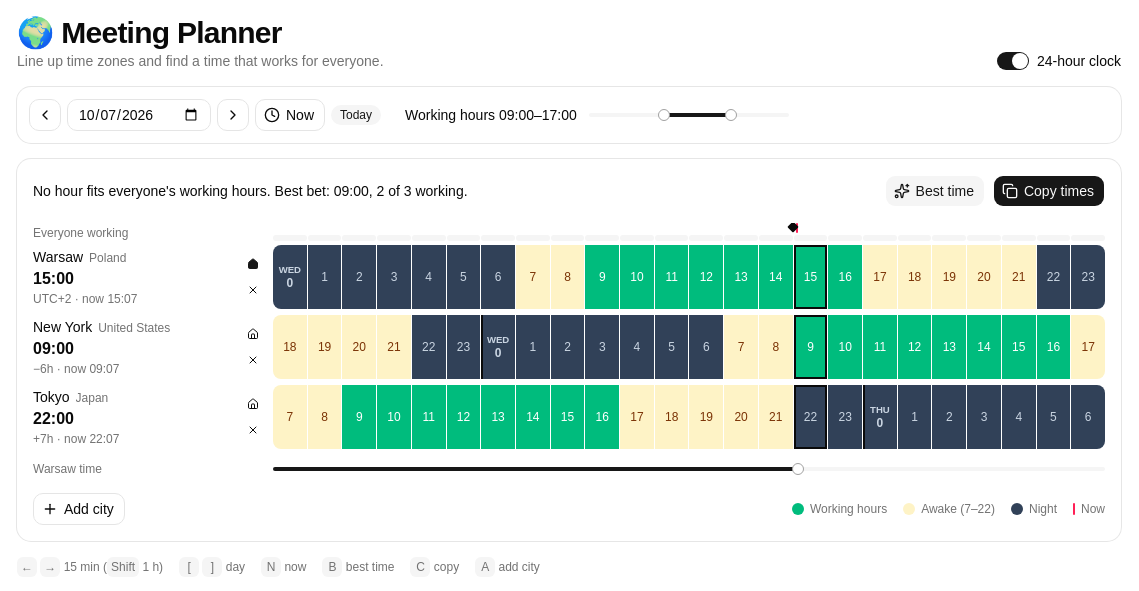
Scenario: dates › moves between days with the buttons and the date field
The width and height of the screenshot is (1139, 591).
Click the button named "Previous day". click: (45, 115)
box: left=29, top=99, right=61, bottom=131
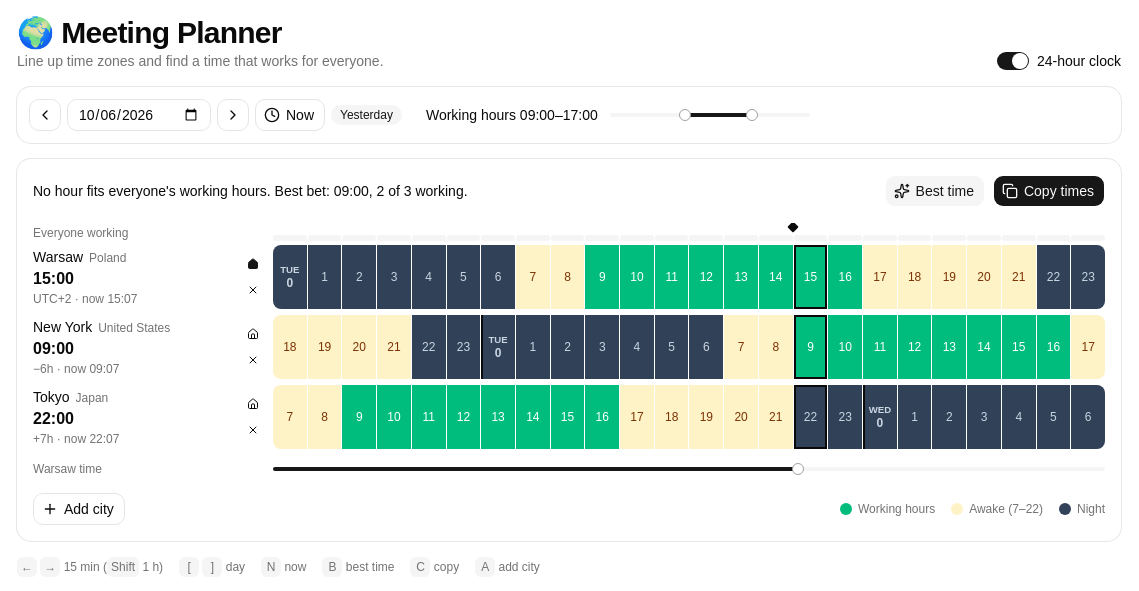
Result: the date field named "Date" holds "2026-10-06" at left=67, top=99, right=211, bottom=131
Result: the text "Yesterday" is shown at left=331, top=105, right=402, bottom=125
Click the button named "Next day". click: (233, 115)
box: left=217, top=99, right=249, bottom=131
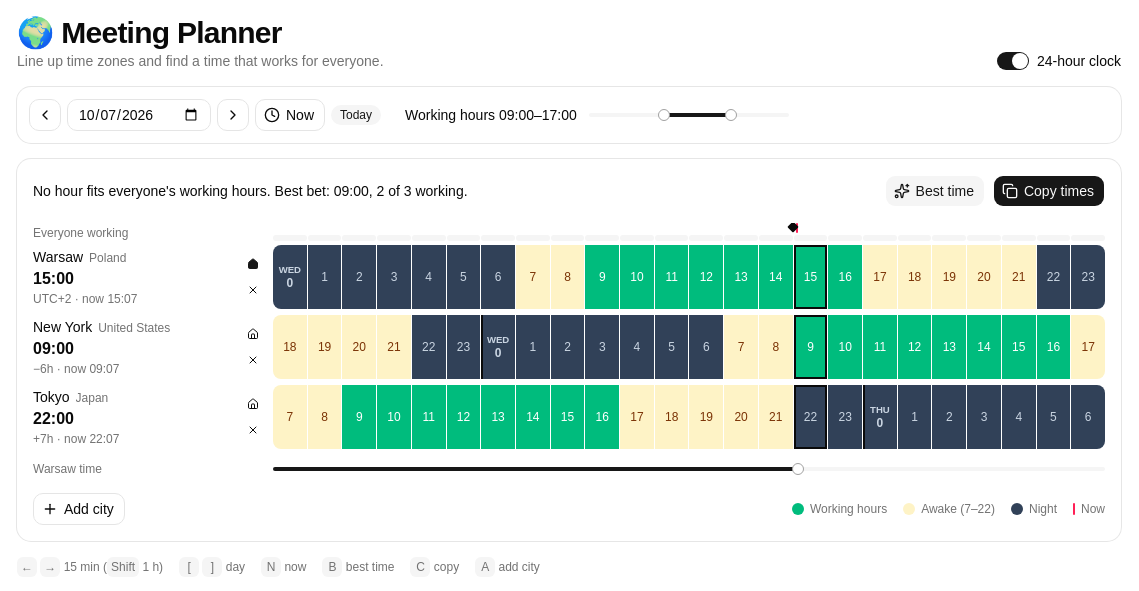
Click the button named "Next day". click: (233, 115)
box: left=217, top=99, right=249, bottom=131
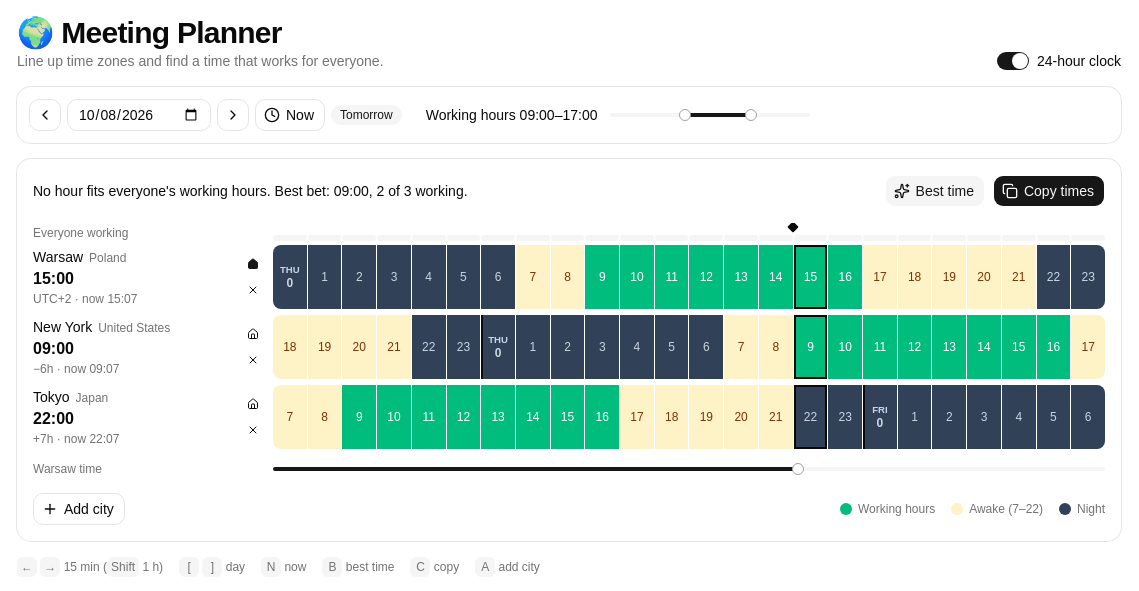
Result: the date field named "Date" holds "2026-10-08"
Type "2026-12-24" into the date field named "Date". click: (139, 115)
box: left=67, top=99, right=211, bottom=131
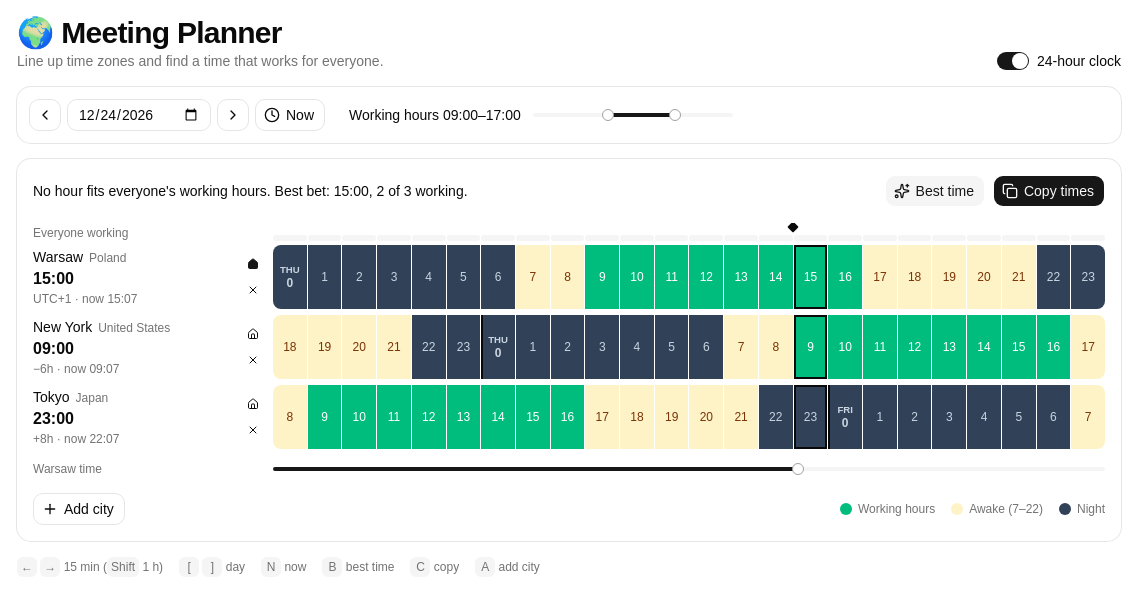
Click the button "Now". click: (290, 115)
box: left=255, top=99, right=325, bottom=131
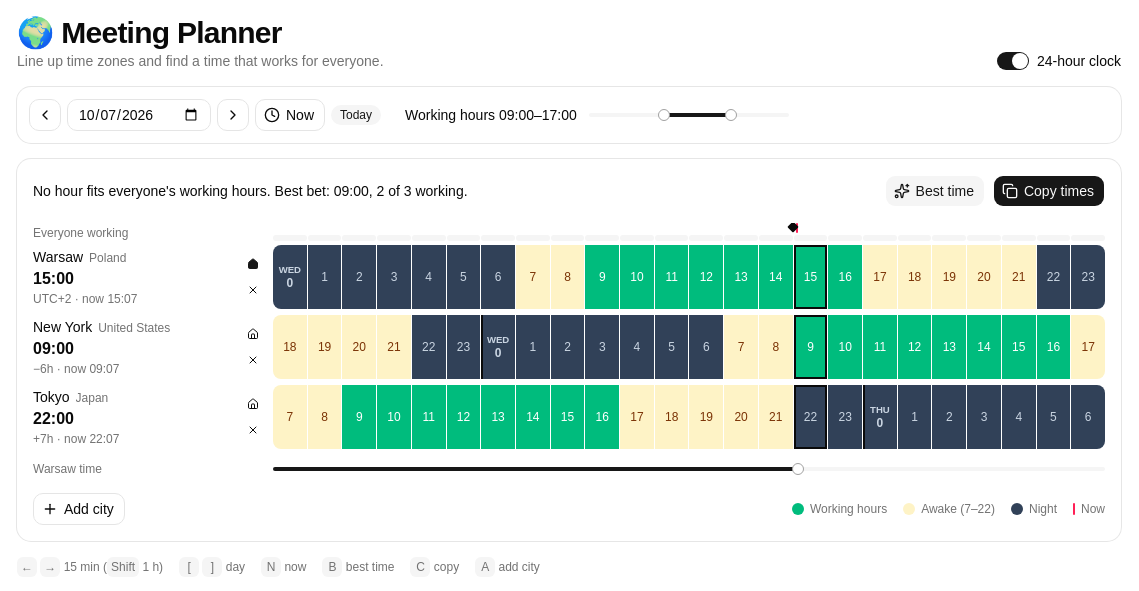
Result: the date field named "Date" holds "2026-10-07" at left=67, top=99, right=211, bottom=131
